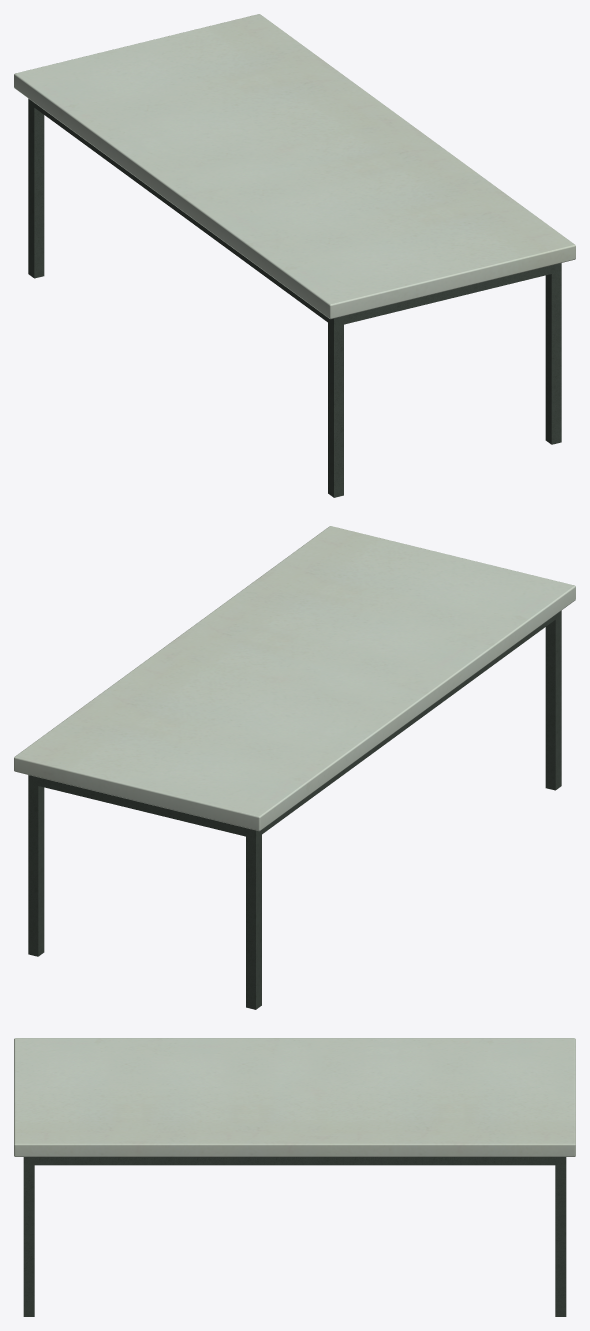
File: LGSeochoB1TableWhite.fbx
3 renders of one model, top to bottom at view 1: azimuth 30°, elevation 25°; view 2: azimuth 150°, elevation 25°; view 3: azimuth 270°, elevation 25°, orthographic. The views are drawn at different scales.
Parts seen in each view (by area): view 1: LGSeochoB1Plastic, LGSeochoB1Metal; view 2: LGSeochoB1Plastic, LGSeochoB1Metal; view 3: LGSeochoB1Plastic, LGSeochoB1Metal.
Part boxes in pixels (<box>): LGSeochoB1Plastic: <box>14,14,575,318</box>; LGSeochoB1Metal: <box>28,98,561,497</box>; LGSeochoB1Plastic: <box>14,526,575,830</box>; LGSeochoB1Metal: <box>28,610,561,1009</box>; LGSeochoB1Plastic: <box>14,1038,575,1156</box>; LGSeochoB1Metal: <box>23,1157,566,1316</box>.
Bounding box in the file's own units: 85.87 × 66.27 × 191.
Materials: 2 (2 with a texture image).
